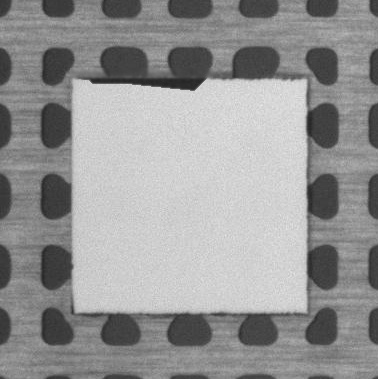DIE_BROKEN: (85, 72, 208, 92)
